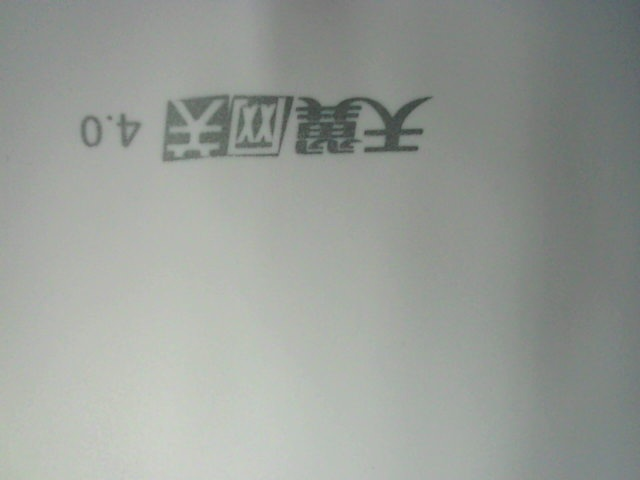BM_TianYiWangGuan: (81, 76, 441, 167)
